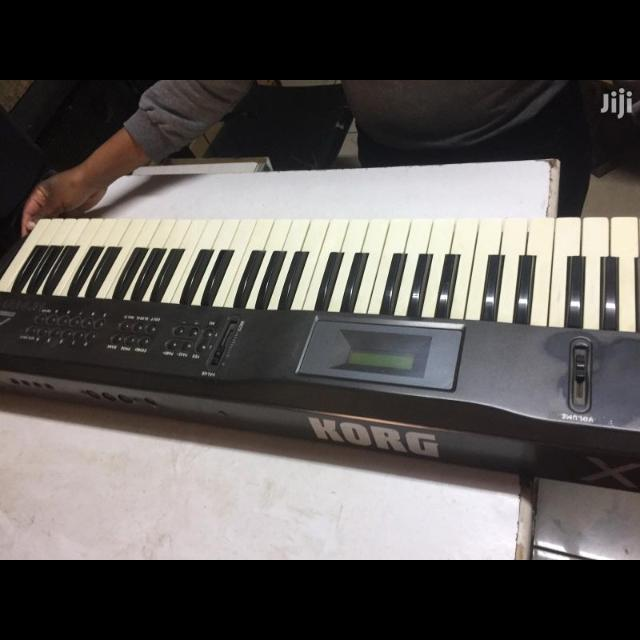Electronic-Keyboard: (14, 222, 626, 454)
